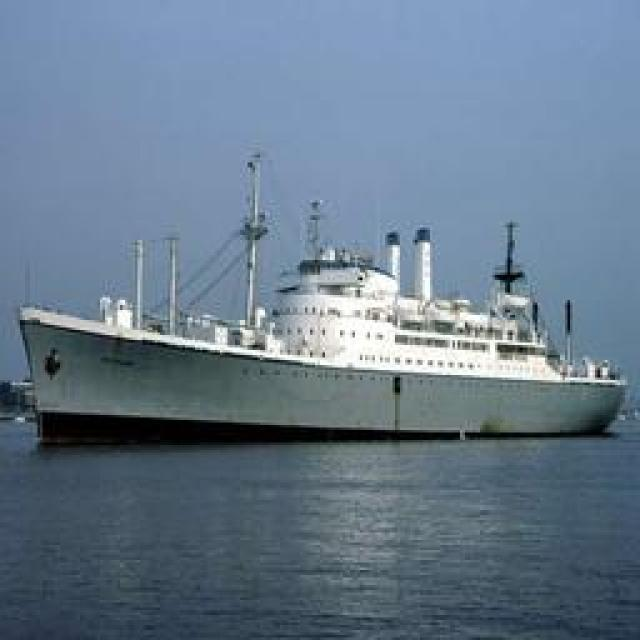CIV_Ship: (18, 165, 628, 435)
